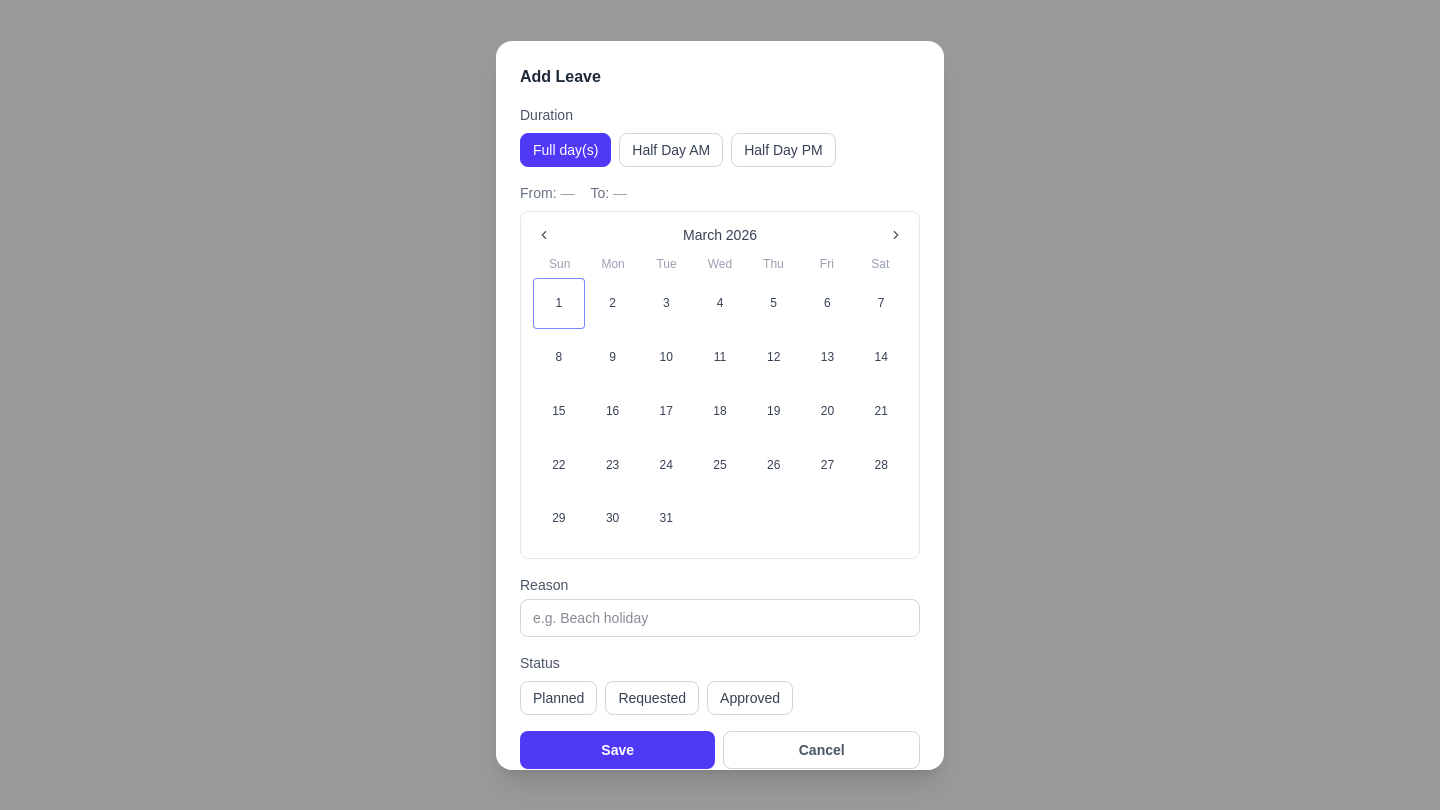
it: AddLeaveModal — reason required › shows an error when Reason is empty on save
Click the button named "2026-03-09" at point(613, 357), box [587,331,638,383]
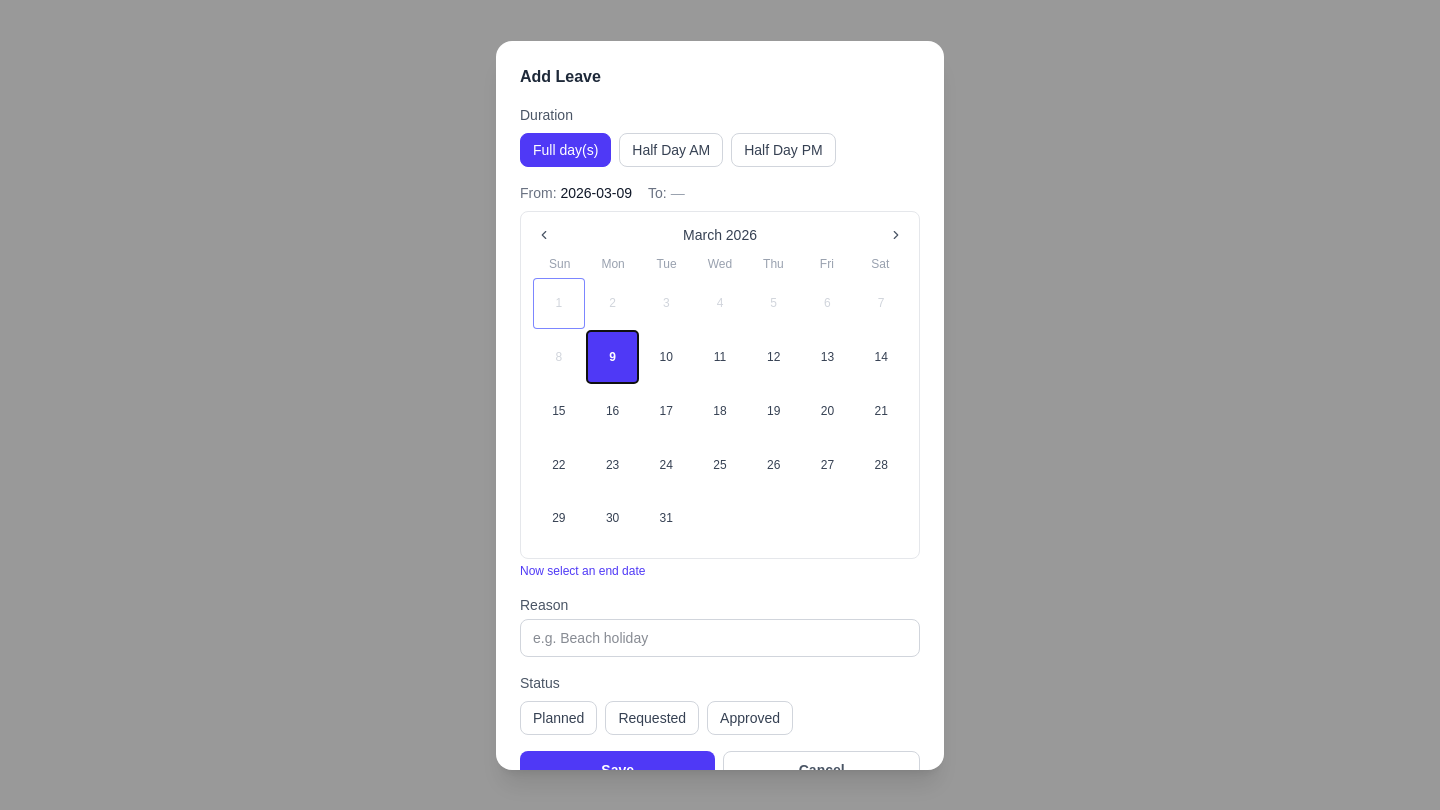
Click the button named "2026-03-09" at point(613, 357), box [587,331,638,383]
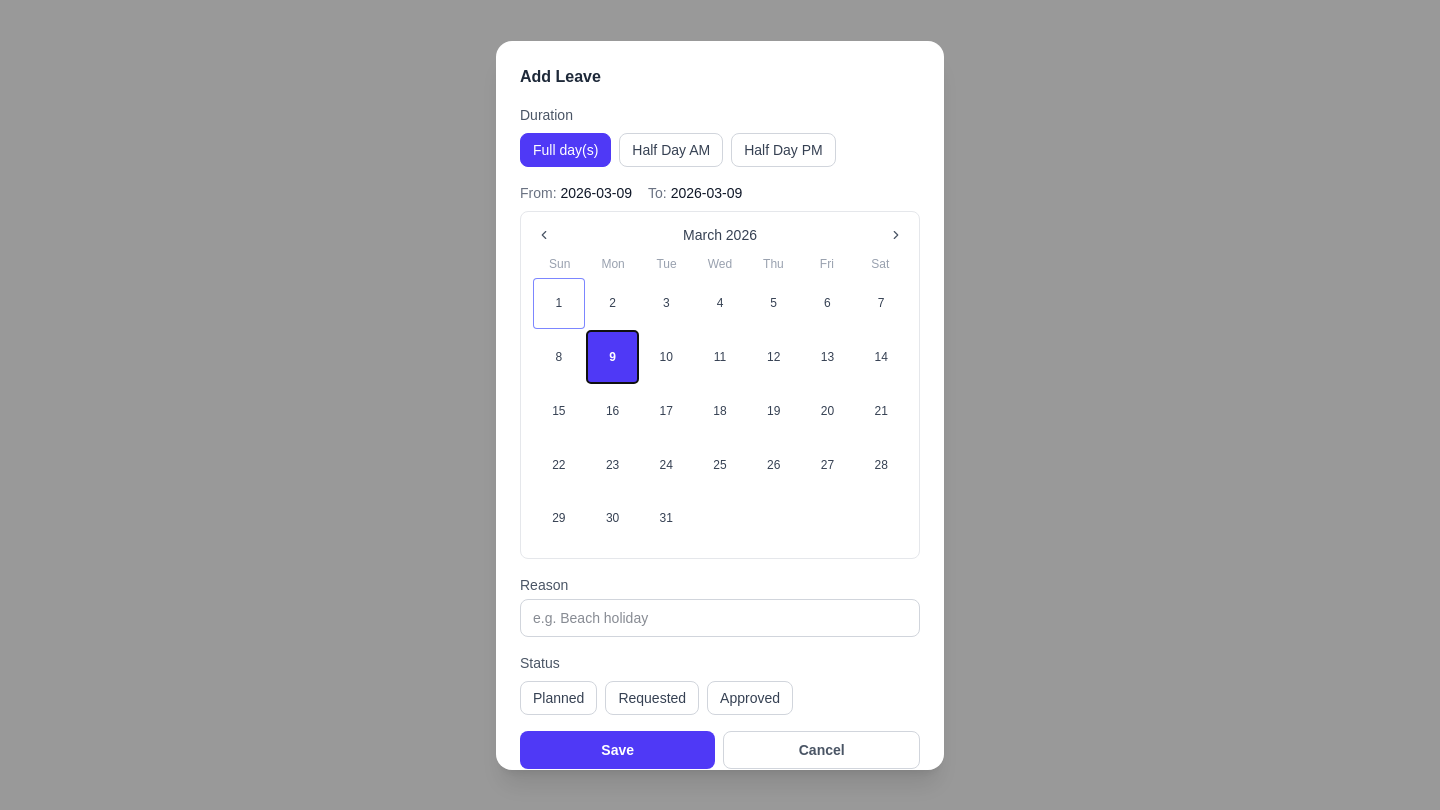
// Type is auto-set, status selected, but NO reason
Click the button "Planned" at point(559, 698), box [520,681,597,715]
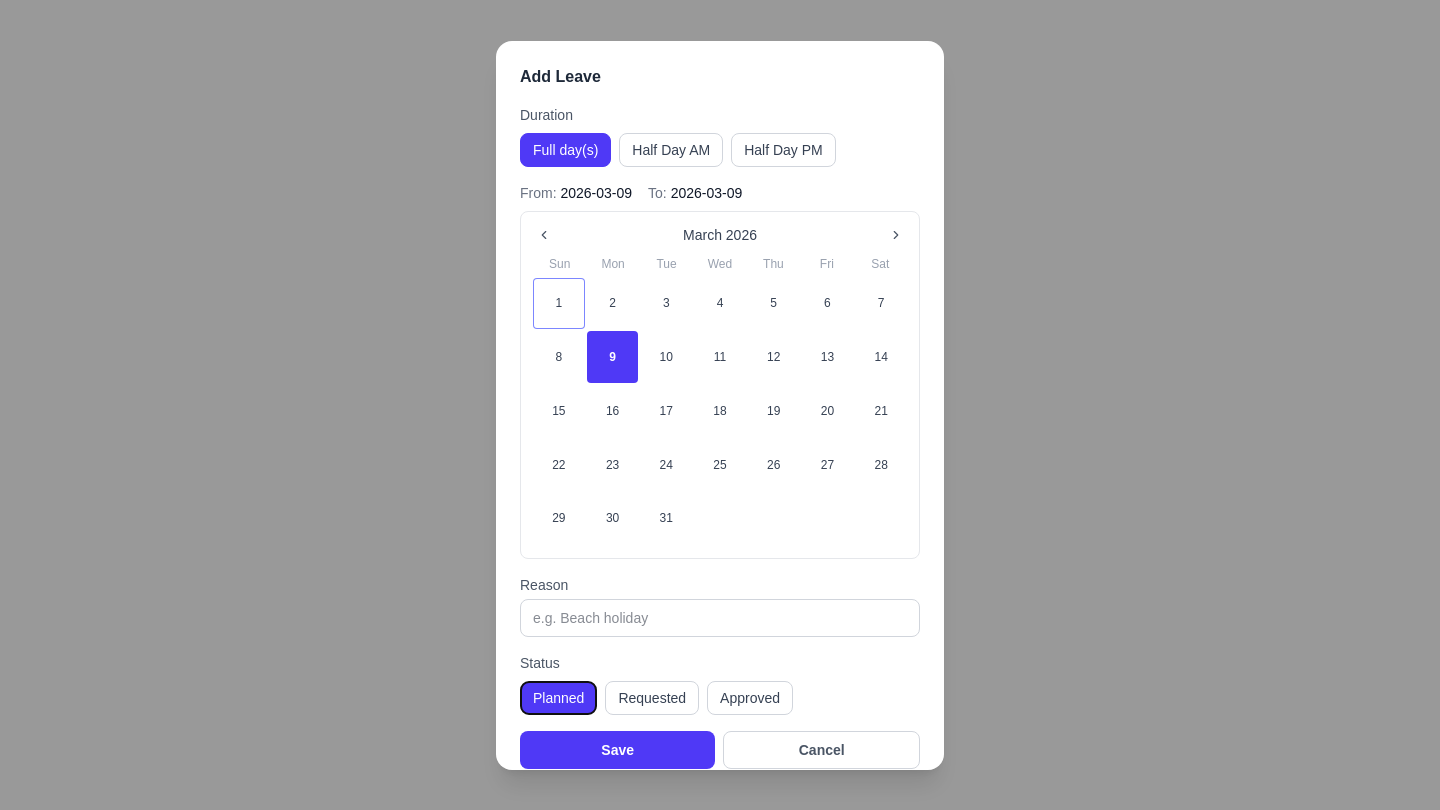
Click the button "Save" at point(618, 750), box [520,731,715,769]
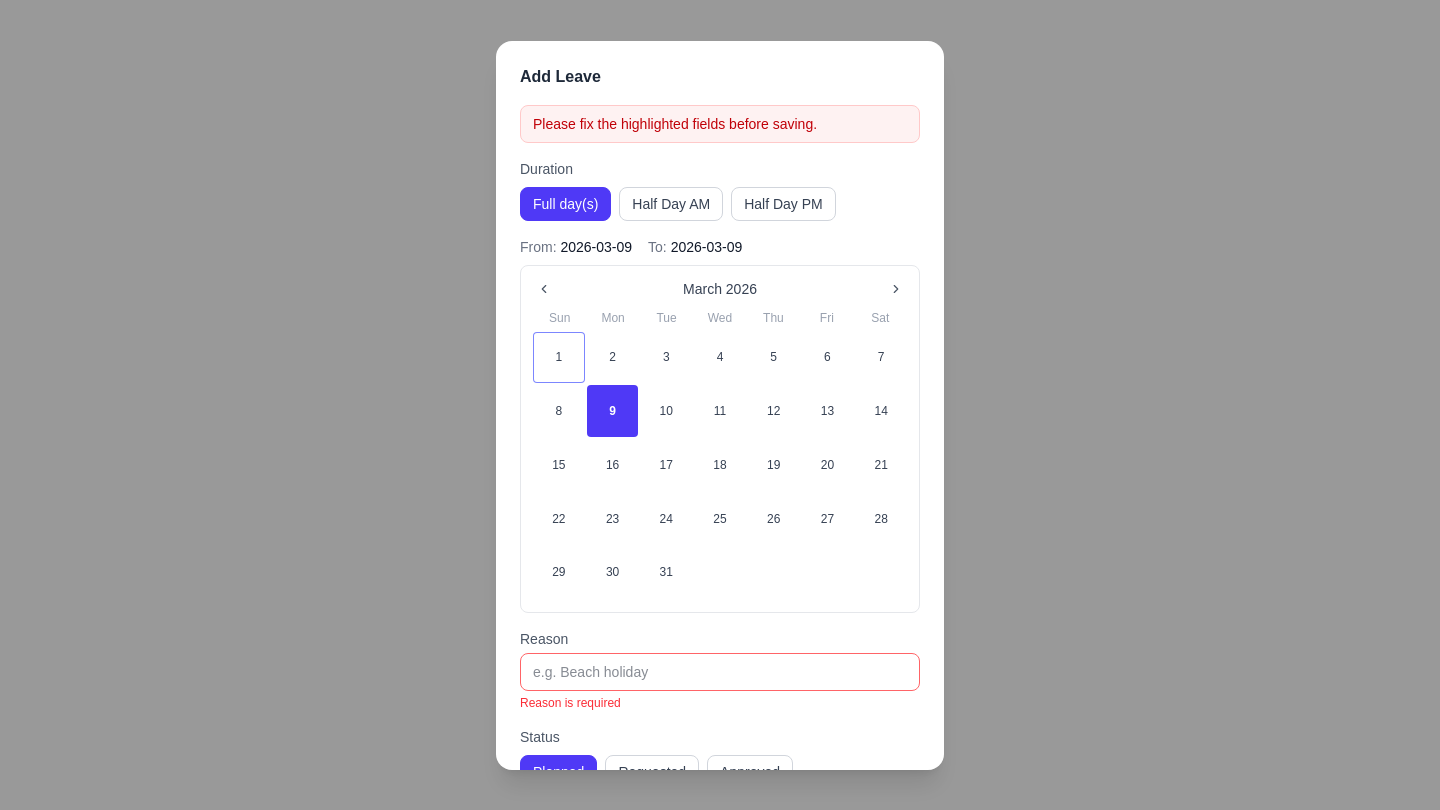
Expected: the text "Reason is required" is shown, [520,696,621,710]
